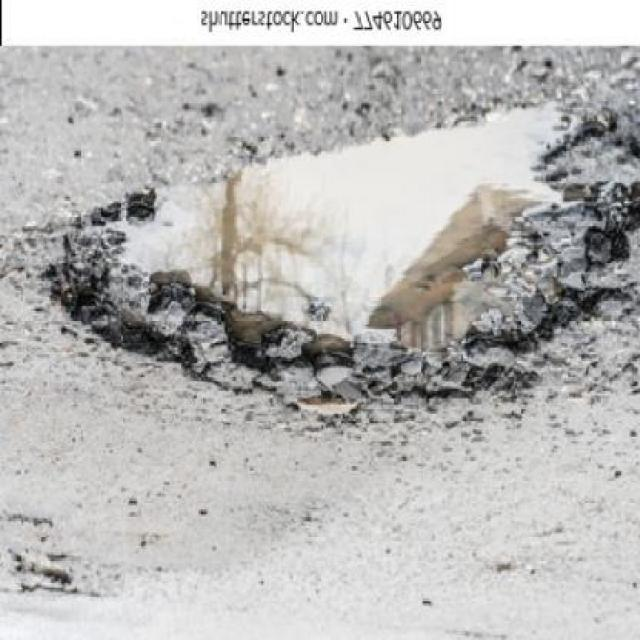pothole: (47, 69, 638, 416)
